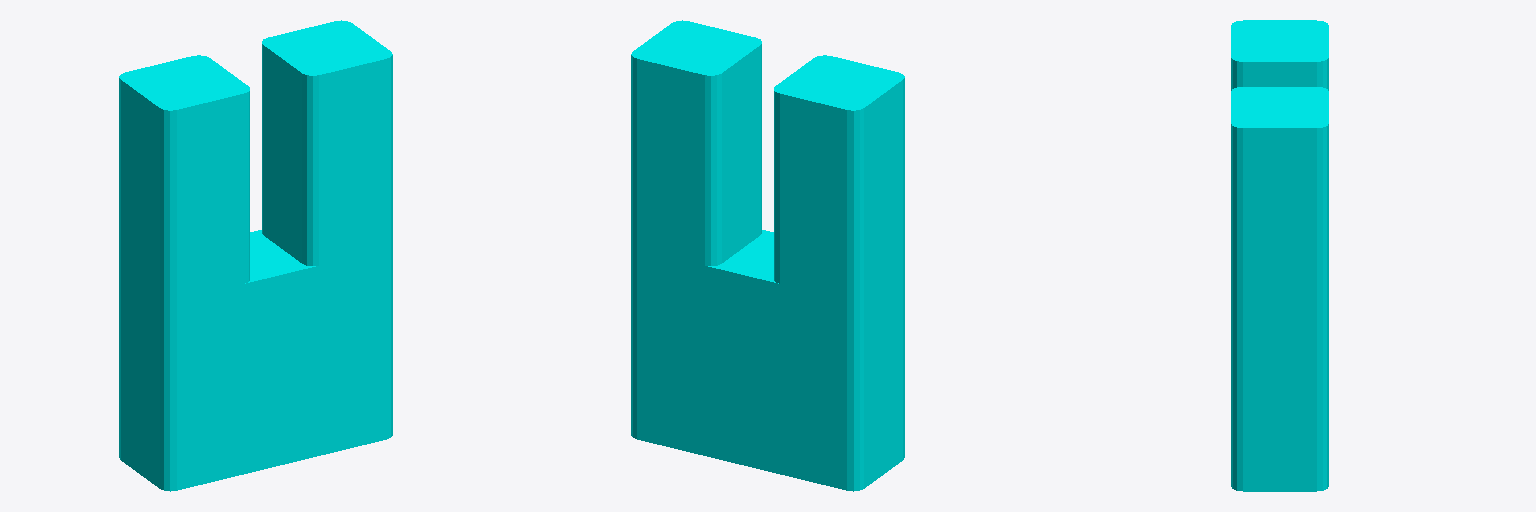
URDF robot description (Large_Short_DoubleSquare_Red):
<?xml version="1.0"?>
<robot name="Large_Short_DoubleSquare_Red">
    <link name="Large_Short_DoubleSquare_Red">
        <visual>
            <geometry>
                <mesh filename="../mesh/factory_insertion/Large_Short_DoubleSquare_Red.obj" scale="0.001 0.001 0.001"/>
            </geometry>
            <material name="Red">
              <color rgba="0 1.0 1.0 1.0"/>
            </material>
        </visual>
        <collision>
            <geometry>
                <mesh filename="../mesh/factory_insertion/Large_Short_DoubleSquare_Red.obj" scale="0.001 0.001 0.001"/>
            </geometry>
            <sdf resolution="512"/>
        </collision>
    </link>
</robot>

--- What the picture shows (computed from the rendered views, not written in the file) ---
3 views of the same robot in one strip: view 1: azimuth 30°, elevation 25°; view 2: azimuth 150°, elevation 25°; view 3: azimuth 270°, elevation 25° (orthographic).
Model Large_Short_DoubleSquare_Red with 1 links and 0 joints (none), rooted at Large_Short_DoubleSquare_Red, posed every joint at zero.
Visible links, largest first — view 1: Large_Short_DoubleSquare_Red; view 2: Large_Short_DoubleSquare_Red; view 3: Large_Short_DoubleSquare_Red.
Boxes of the visible links, x1,y1,x2,y2 form: Large_Short_DoubleSquare_Red: [119, 20, 392, 491]; Large_Short_DoubleSquare_Red: [631, 20, 904, 491]; Large_Short_DoubleSquare_Red: [1231, 20, 1328, 491].
Bounding box of the posed robot: 0.0636 × 0.0245 × 0.1 m (x, y, z).
1 mesh visuals loaded from 1 distinct referenced files (1 OBJ).
